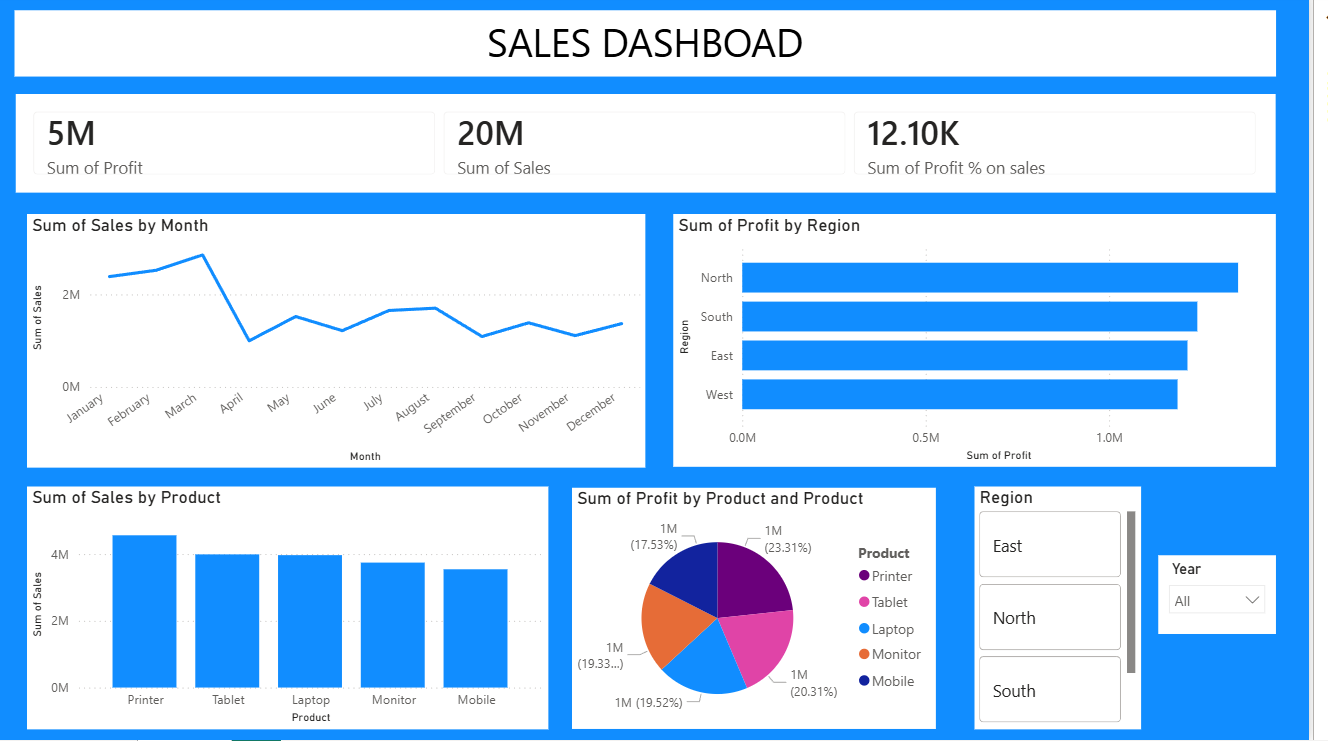

The page's visual inventory and layout, read from the dashboard file:
{"tool":"powerbi","page":{"name":"Page 1","canvas":[1280,720],"ordinal":0},"visuals":[{"type":"cardVisual","fields":{"Data":["Sum(salesdb sales_data.Profit)","Sum(salesdb sales_data.Sales)","Sum(salesdb sales_data.Profit % on sales)"]},"box":[32.6,96.5,1216.1,95.3],"z":0},{"type":"lineChart","fields":{"Category":["salesdb sales_data.Order_Date.Variation.Date Hierarchy.Month"],"Y":["Sum(salesdb sales_data.Sales)"]},"box":[43.4,212.3,597.2,244.9],"z":1000},{"type":"barChart","fields":{"Category":["salesdb sales_data.Region"],"Y":["Sum(salesdb sales_data.Profit)"]},"box":[667.2,212.3,581.5,243.7],"z":2000},{"type":"columnChart","fields":{"Category":["salesdb sales_data.Product"],"Y":["Sum(salesdb sales_data.Sales)"]},"box":[43.4,475.3,503.1,234],"z":3000},{"type":"slicer","fields":{"Values":["salesdb sales_data.Order_Date.Variation.Date Hierarchy.Year"]},"box":[1135.3,541.7,113.4,76],"z":4000},{"type":"advancedSlicerVisual","fields":{"Values":["salesdb sales_data.Region"]},"box":[957.9,475.3,160.5,234],"z":5000},{"type":"textbox","box":[31.4,15.7,1217.3,63.9],"z":6000},{"type":"pieChart","fields":{"Category":["salesdb sales_data.Product"],"Series":["salesdb sales_data.Product"],"Y":["Sum(salesdb sales_data.Profit)"]},"box":[569.4,476.5,351.1,232.8],"z":7000}]}

Visuals, with their boxes in screenshot pixels (x1, y1, x2, y2), scaled from the page's 1280x720 canvas onto the 1328x741 screenshot:
cardVisual - Sum(salesdb sales_data.Profit) x Sum(salesdb sales_data.Sales): {"x1": 34, "y1": 99, "x2": 1296, "y2": 197}
lineChart - salesdb sales_data.Order_Date.Variation.Date Hierarchy.Month x Sum(salesdb sales_data.Sales): {"x1": 45, "y1": 218, "x2": 665, "y2": 471}
barChart - salesdb sales_data.Region x Sum(salesdb sales_data.Profit): {"x1": 692, "y1": 218, "x2": 1296, "y2": 469}
columnChart - salesdb sales_data.Product x Sum(salesdb sales_data.Sales): {"x1": 45, "y1": 489, "x2": 567, "y2": 730}
slicer - salesdb sales_data.Order_Date.Variation.Date Hierarchy.Year: {"x1": 1178, "y1": 557, "x2": 1296, "y2": 636}
advancedSlicerVisual - salesdb sales_data.Region: {"x1": 994, "y1": 489, "x2": 1160, "y2": 730}
textbox: {"x1": 33, "y1": 16, "x2": 1296, "y2": 82}
pieChart - salesdb sales_data.Product x salesdb sales_data.Product: {"x1": 591, "y1": 490, "x2": 955, "y2": 730}
